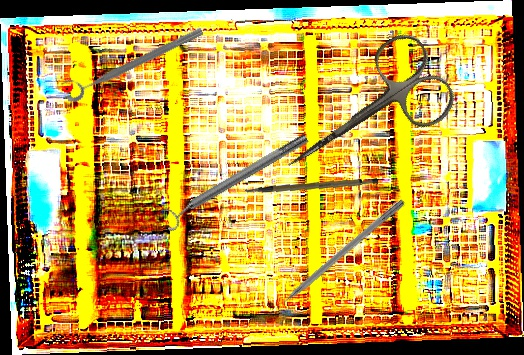Fixation Ring: (157, 127, 314, 233), (59, 16, 206, 105)
Iris Scissors: (261, 26, 463, 204)
Pusher: (262, 196, 407, 320)
Scalpel Handle: (245, 167, 379, 202)
